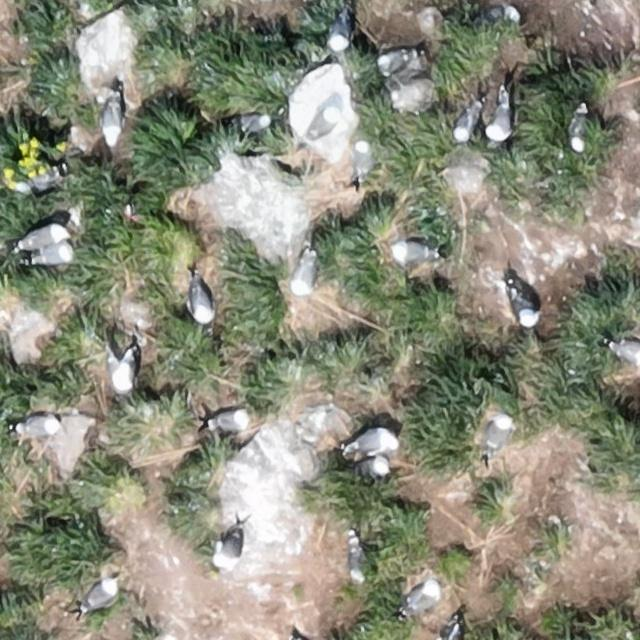umineko: (290, 243, 322, 294), (214, 522, 247, 571), (104, 348, 139, 394), (304, 107, 342, 148), (18, 225, 68, 254), (101, 90, 124, 148), (26, 244, 78, 266), (348, 140, 372, 187), (404, 582, 438, 611), (350, 429, 392, 452), (84, 578, 116, 607), (486, 416, 511, 453), (191, 282, 213, 322), (512, 292, 536, 326), (20, 416, 60, 436), (490, 99, 510, 139), (393, 242, 432, 262), (350, 532, 364, 587), (212, 410, 248, 430), (354, 459, 390, 479), (329, 13, 350, 47), (480, 6, 518, 24), (454, 108, 474, 142), (569, 113, 586, 153), (613, 342, 640, 365), (242, 115, 270, 135), (377, 52, 405, 72)
